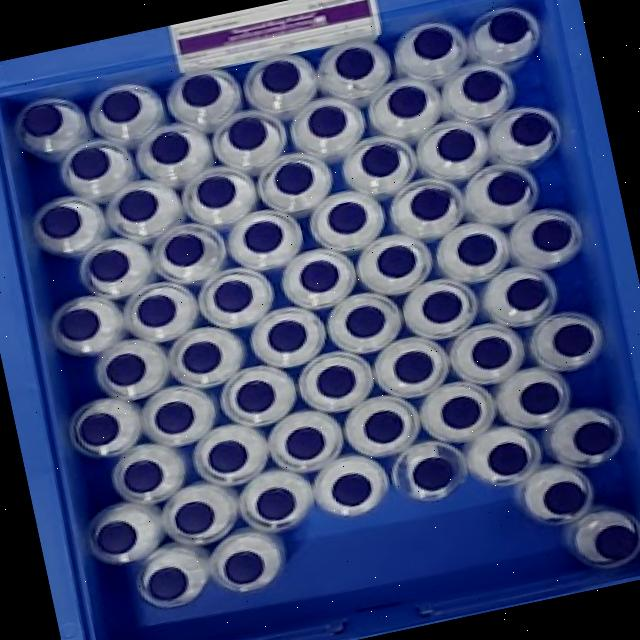vials: (486, 170, 529, 205), (595, 525, 638, 560), (206, 439, 248, 474), (573, 421, 616, 455), (412, 457, 455, 491), (510, 112, 552, 146), (456, 232, 498, 266), (461, 69, 504, 102), (543, 481, 586, 514), (331, 472, 371, 507), (488, 10, 529, 44), (78, 412, 119, 446), (58, 308, 100, 341), (95, 521, 137, 554), (22, 103, 62, 137), (181, 73, 221, 107), (260, 59, 300, 93), (299, 259, 339, 293), (553, 323, 593, 357), (123, 459, 163, 493), (285, 426, 325, 460), (441, 395, 481, 429), (256, 487, 296, 521), (148, 566, 188, 600), (40, 205, 81, 238), (88, 249, 129, 282), (410, 188, 451, 221), (531, 218, 572, 251), (136, 294, 177, 327), (471, 336, 512, 369), (506, 278, 547, 311), (363, 410, 404, 443), (69, 147, 109, 180), (150, 131, 190, 164), (101, 90, 141, 123), (307, 105, 347, 138), (334, 46, 374, 79), (196, 175, 236, 208), (243, 220, 283, 253), (345, 305, 385, 338), (213, 279, 253, 312), (106, 353, 146, 386), (235, 380, 275, 413), (520, 381, 560, 414), (487, 442, 527, 475), (224, 551, 264, 584), (414, 26, 452, 60), (228, 117, 267, 150), (361, 144, 400, 177), (437, 129, 476, 162), (165, 233, 204, 266), (327, 201, 366, 234), (377, 245, 416, 278), (422, 290, 461, 323), (155, 401, 194, 434), (394, 350, 433, 383), (175, 501, 214, 534), (274, 162, 314, 194), (118, 190, 158, 222), (267, 320, 307, 352), (388, 85, 426, 118), (317, 365, 355, 398), (182, 341, 221, 373)
